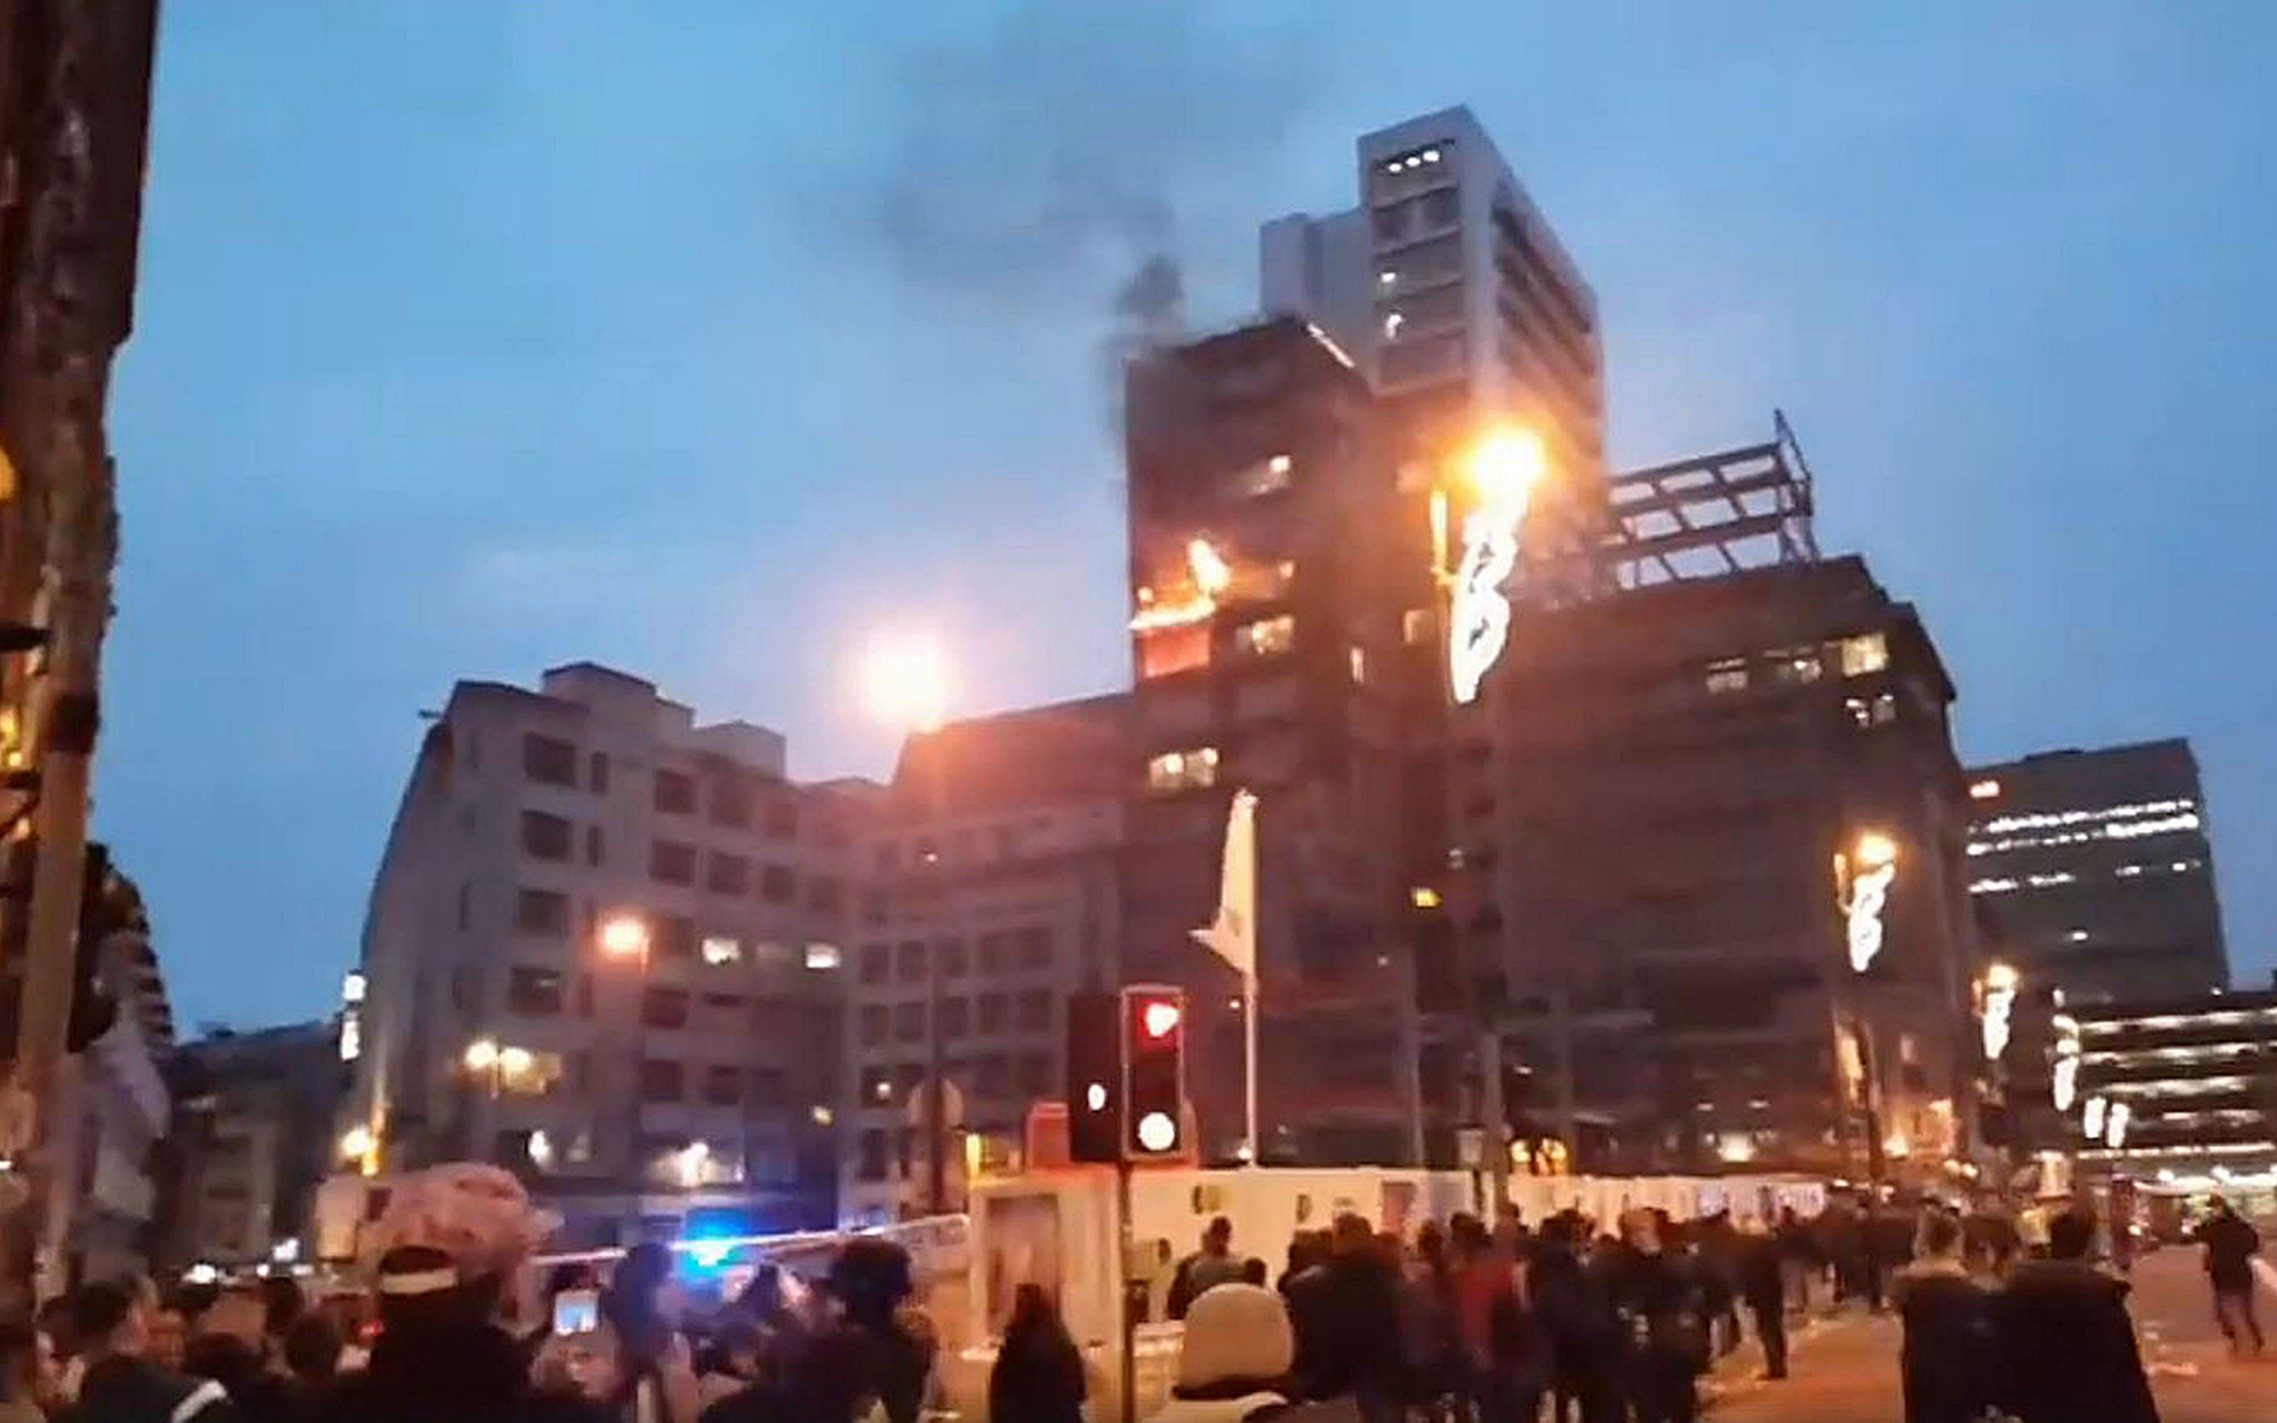Fire: (1451, 413, 1549, 520), (1849, 828, 1902, 928)
